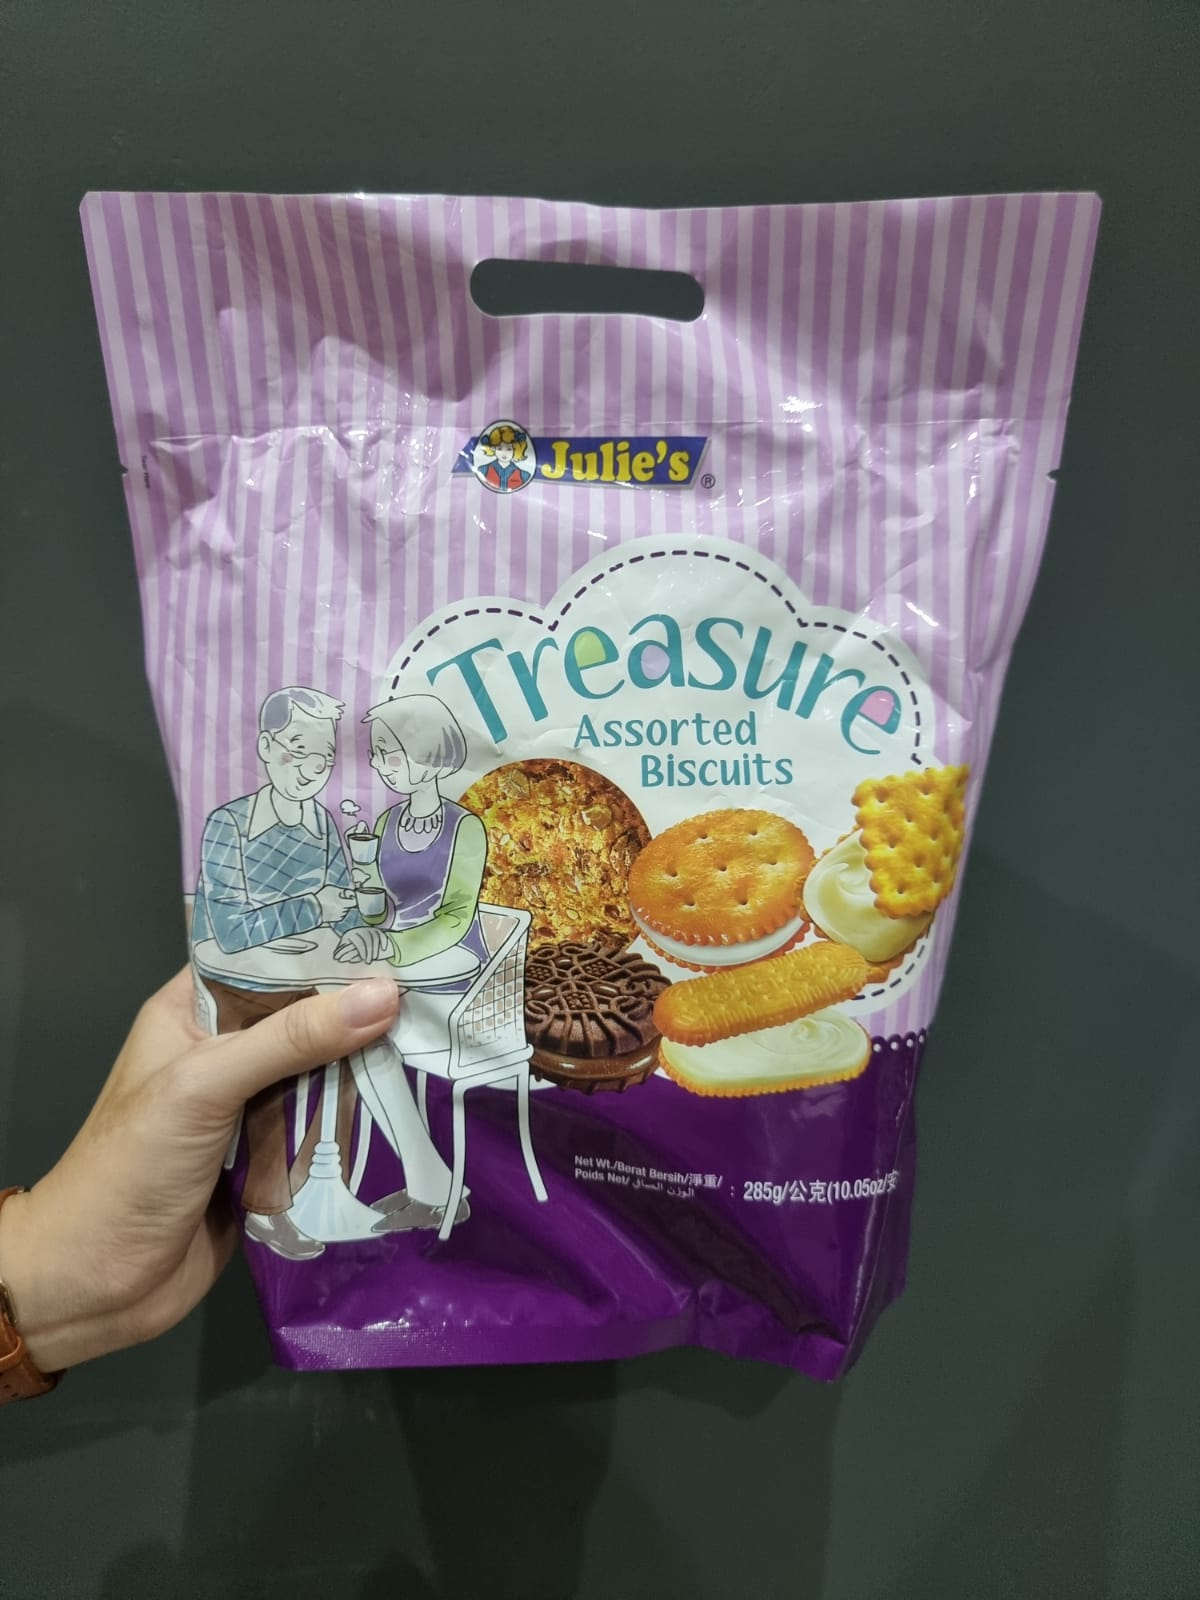Biscuits: (212, 406, 945, 1344)
